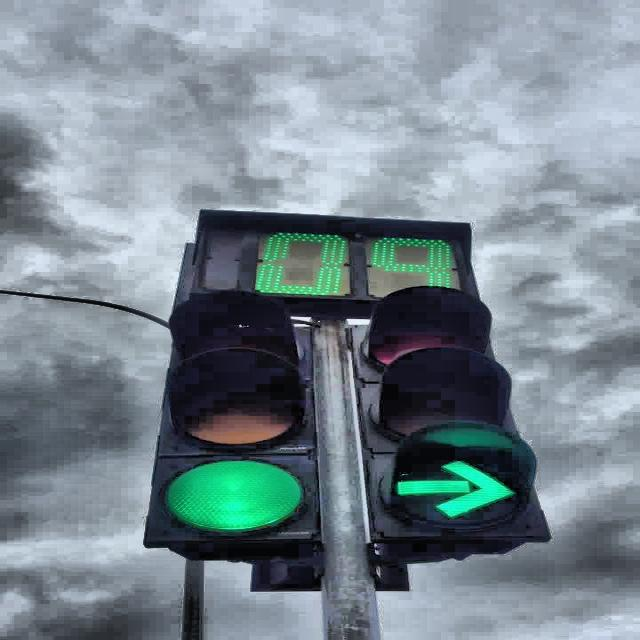green: (367, 287, 554, 547), (141, 290, 322, 548)
